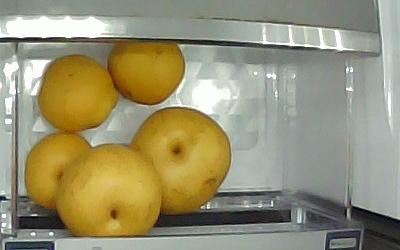pear: (132, 108, 231, 214), (57, 144, 161, 238), (37, 54, 118, 132), (25, 133, 96, 210), (107, 42, 185, 105)
